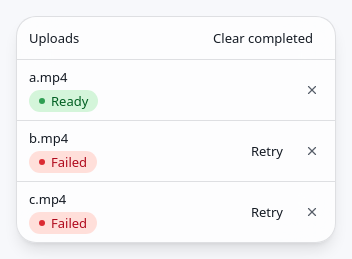
UploadTray › "clear completed" removes only ready entries, leaving others
Click the button "Clear completed" at (263, 38), box [203,25,323,51]
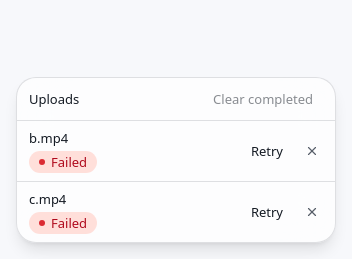
Expected: the text "b.mp4" is shown, [29,129,68,147]
Now the text "a.mp4" is gone
